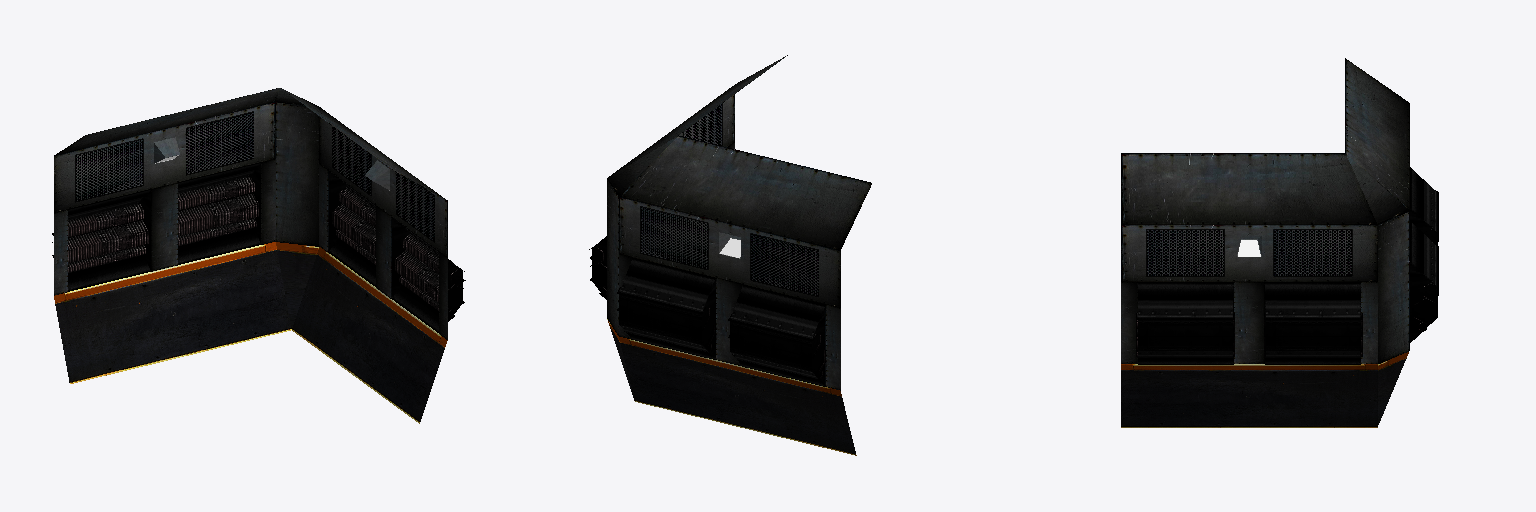
The picture shows the model from 3 angles: view 1: azimuth 30°, elevation 25°; view 2: azimuth 150°, elevation 25°; view 3: azimuth 270°, elevation 25°; orthographic projection.
Visible parts, largest first — view 1: Plane025; view 2: Plane025; view 3: Plane025.
Boxes of the visible parts, box(x1,y1,x2,y2) form: Plane025: box(52, 88, 465, 423); Plane025: box(589, 55, 871, 455); Plane025: box(1121, 58, 1438, 427).
Size of the model in its own units: 99.1 by 90 by 99.1.
Materials: 2 (2 with a texture image).